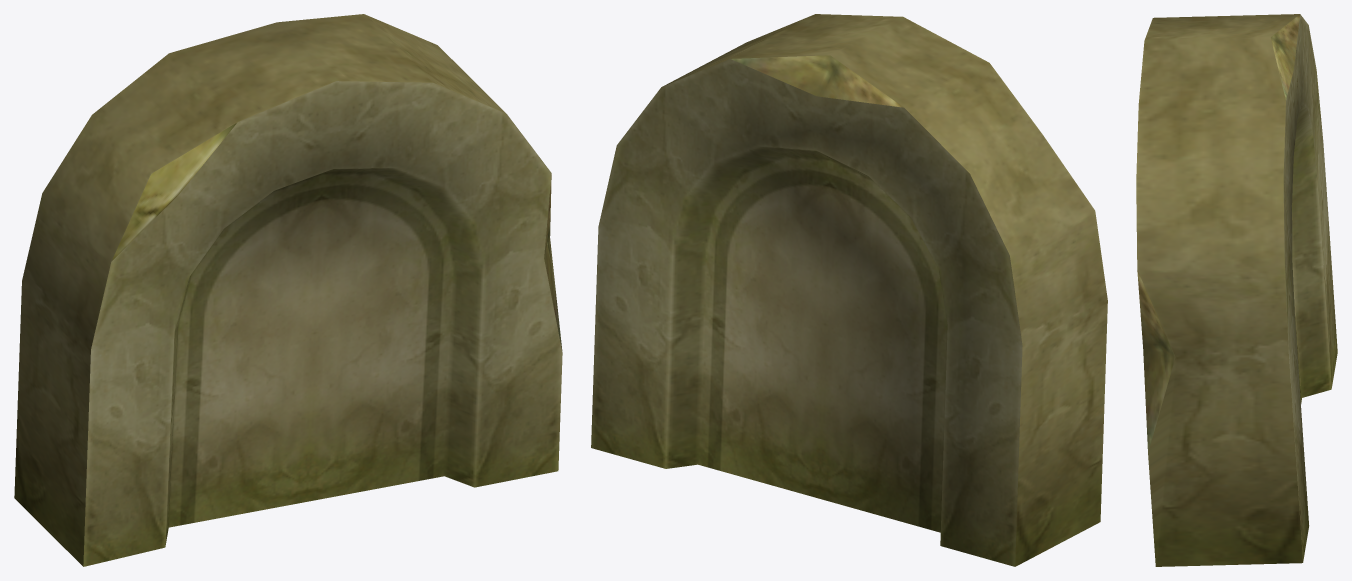
File: a_SWCtomb05.glb
3 renders of one model, left to right at view 1: azimuth 30°, elevation 25°; view 2: azimuth 150°, elevation 25°; view 3: azimuth 270°, elevation 25°, orthographic. The views are drawn at different scales.
Visible parts, largest first — view 1: a_SWCtomb05; view 2: a_SWCtomb05; view 3: a_SWCtomb05.
Part boxes in pixels (<box>): a_SWCtomb05: <box>14,14,562,566</box>; a_SWCtomb05: <box>591,14,1107,566</box>; a_SWCtomb05: <box>1136,14,1337,566</box>.
Size of the model in its own units: 1.48 by 1.38 by 0.5894.
1 material, 1 textured.
